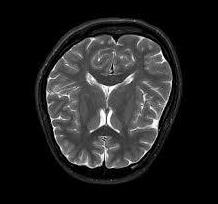Normal_Brain: (1, 1, 218, 203)
